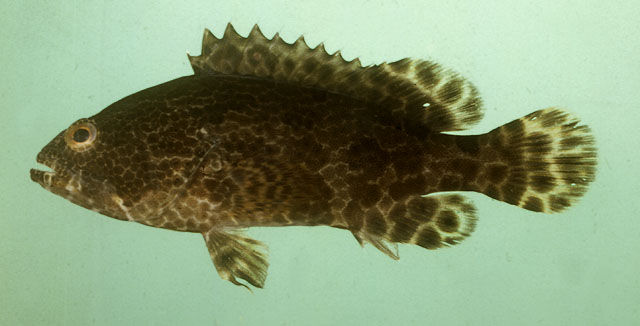fish: (30, 21, 599, 293)
